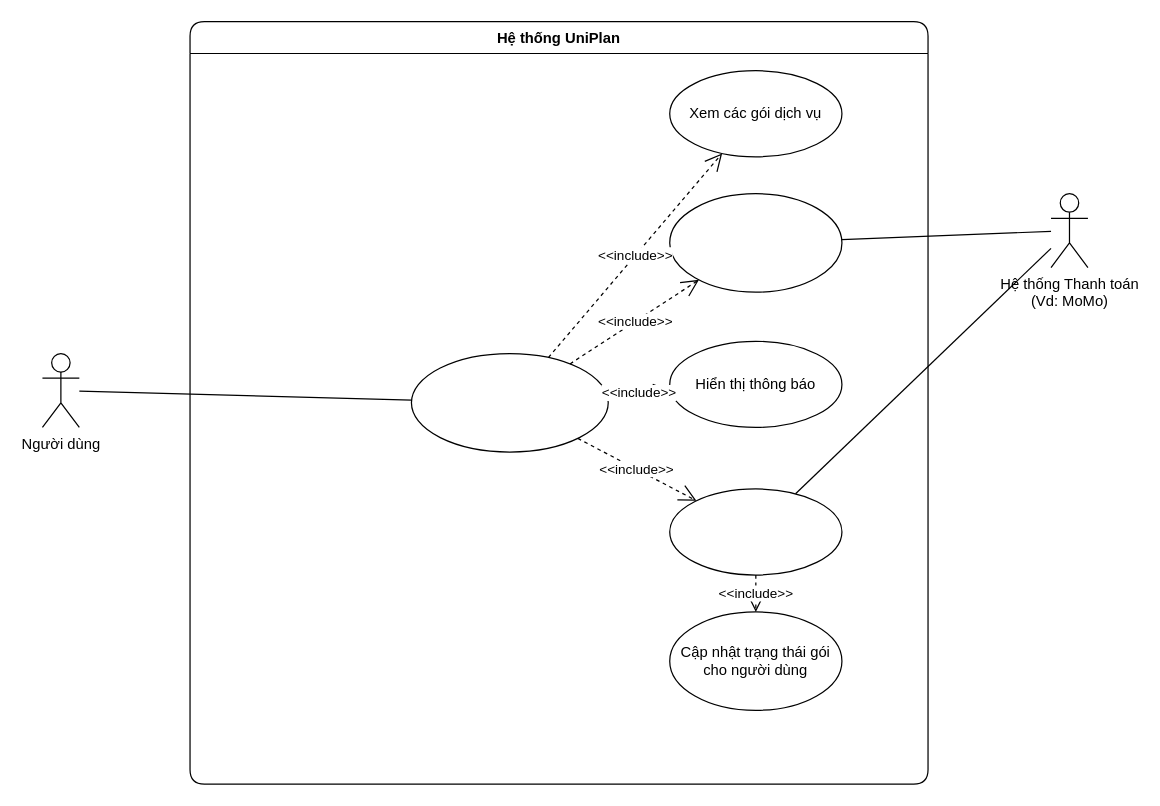
The diagram is 1160 pixels wide and 806 high, and some of its shapes have lost their labels. The shapes that lost their labels are listed below. From the top down, each one's centre as x and y in pixels, then its label:
At (x=755, y=242): "Chọn gói và tạo yêu cầu thanh toán".
At (x=509, y=402): "Nâng cấp gói dịch vụ".
At (x=755, y=531): "Xác thực kết quả thanh toán".
